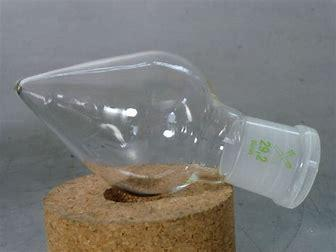Pear shaped flask: (16, 45, 320, 214)
